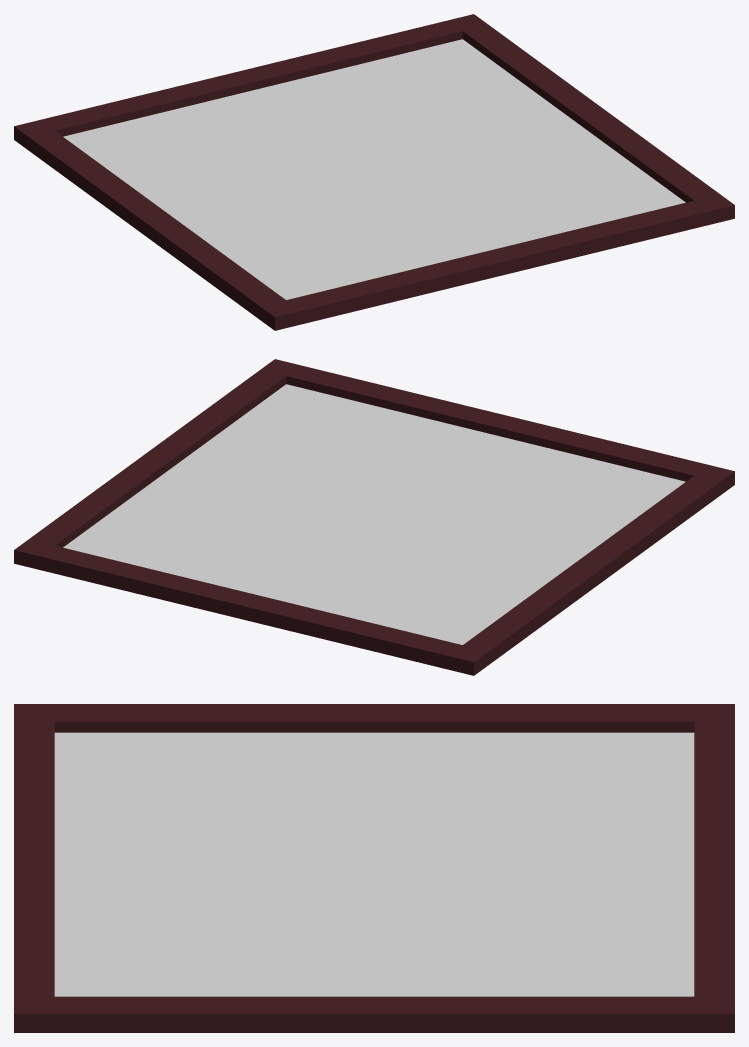
File: Oil Filtr Screen.fbx
3 views of the same model, one above another, from view 1: azimuth 30°, elevation 25°; view 2: azimuth 150°, elevation 25°; view 3: azimuth 270°, elevation 25° (orthographic). The views are drawn at different scales.
Parts seen in each view (by area): view 1: Cube.002; view 2: Cube.002; view 3: Cube.002.
Boxes of the visible parts, x1,y1,x2,y2 form: Cube.002: (14, 14, 734, 330); Cube.002: (14, 359, 734, 675); Cube.002: (14, 704, 734, 1032).
Bounding box in the file's own units: 2.6 × 0.0736 × 2.56.
